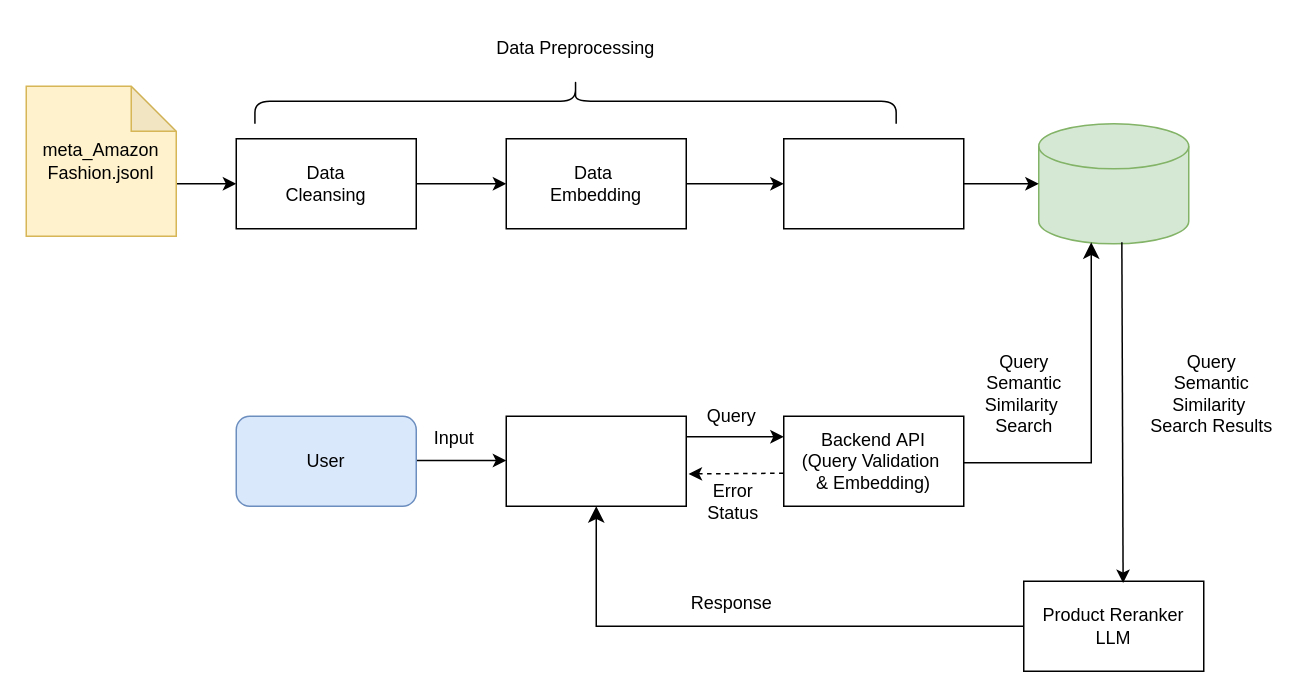
This 1313x698 diagram has some shape labels left out. The centre of each missing label's shape, as x and y in pixels:
"Frontend (Input Validation)" goes at (x=595, y=460).
"PostgreSQL pgvector Database" goes at (x=1113, y=183).
"Title/Feature Extraction from Product Image" goes at (x=873, y=183).
